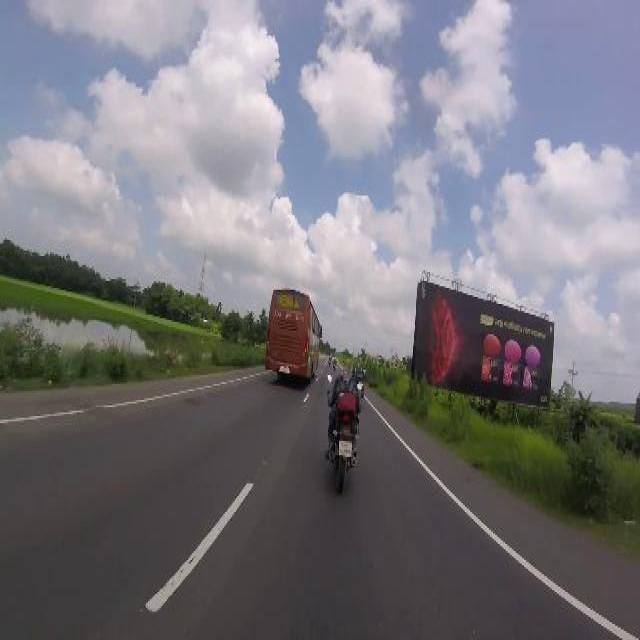bus: (265, 285, 321, 383)
motorbike: (323, 364, 362, 496), (349, 362, 365, 410), (332, 356, 336, 370), (328, 354, 332, 364)
